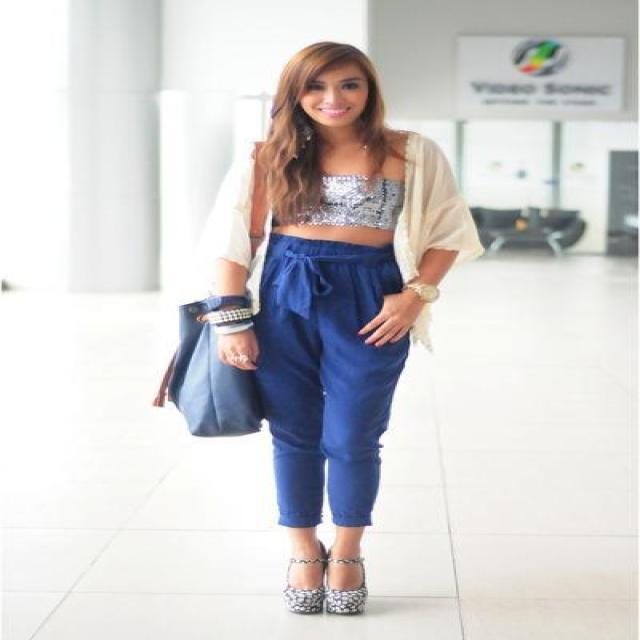bag: (168, 310, 253, 436)
pants: (230, 234, 408, 528)
shirt: (198, 141, 504, 268), (323, 175, 397, 227)
shoe: (289, 576, 366, 617)
